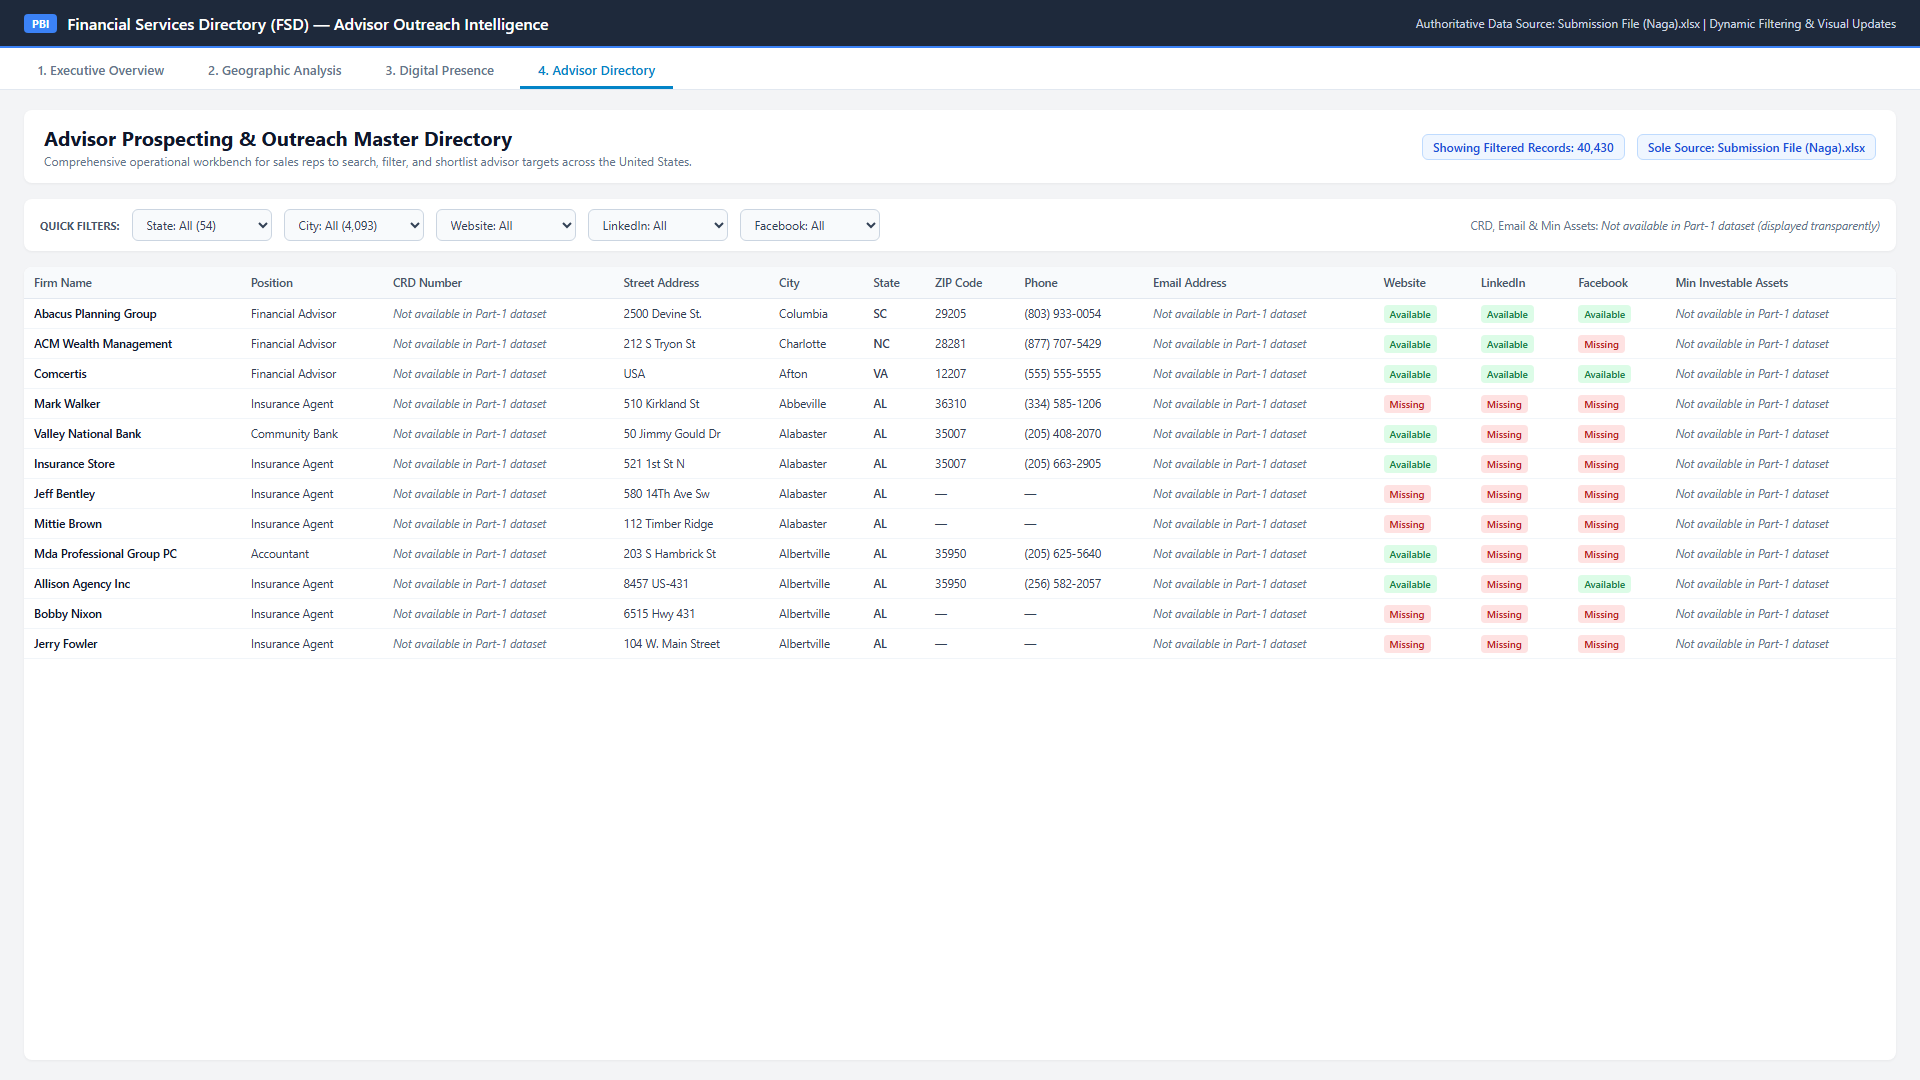

This screenshot's page, from the dashboard's own definition file:
{"tool":"powerbi","page":{"name":"Advisor Directory","canvas":[1280,720],"ordinal":3},"visuals":[{"type":"slicer","fields":{"Values":["FSD Directory.state"]},"box":[20,20,180,110],"z":1000},{"type":"tableEx","fields":{"Values":["FSD Directory.firm","FSD Directory.position","FSD Directory.CRD Number","FSD Directory.street_address","FSD Directory.city","FSD Directory.state","FSD Directory.zip","FSD Directory.phone","FSD Directory.Email Address","FSD Directory.website","FSD Directory.linkedin","FSD Directory.facebook"]},"box":[220,20,1030,680],"z":1000},{"type":"slicer","fields":{"Values":["FSD Directory.city"]},"box":[20,140,180,110],"z":1000},{"type":"slicer","fields":{"Values":["FSD Directory.zip"]},"box":[20,260,180,100],"z":1000},{"type":"slicer","fields":{"Values":["FSD Directory.Website Available"]},"box":[20,370,180,80],"z":1000},{"type":"slicer","fields":{"Values":["FSD Directory.LinkedIn Available"]},"box":[20,460,180,80],"z":1000},{"type":"slicer","fields":{"Values":["FSD Directory.Facebook Available"]},"box":[20,550,180,80],"z":1000},{"type":"card","fields":{"Values":["_Measures.Filtered Advisor Count"]},"box":[20,640,180,65],"z":1000}]}

Visuals, with their boxes on the page's 1280x720 design canvas (x1, y1, x2, y2). These are canvas units, not pixel positions in the 1920x1080 screenshot, which may show the page scaled, cropped or inside an application window:
slicer - FSD Directory.state: bbox=[20, 20, 200, 130]
tableEx - FSD Directory.firm x FSD Directory.position: bbox=[220, 20, 1250, 700]
slicer - FSD Directory.city: bbox=[20, 140, 200, 250]
slicer - FSD Directory.zip: bbox=[20, 260, 200, 360]
slicer - FSD Directory.Website Available: bbox=[20, 370, 200, 450]
slicer - FSD Directory.LinkedIn Available: bbox=[20, 460, 200, 540]
slicer - FSD Directory.Facebook Available: bbox=[20, 550, 200, 630]
card - _Measures.Filtered Advisor Count: bbox=[20, 640, 200, 705]
